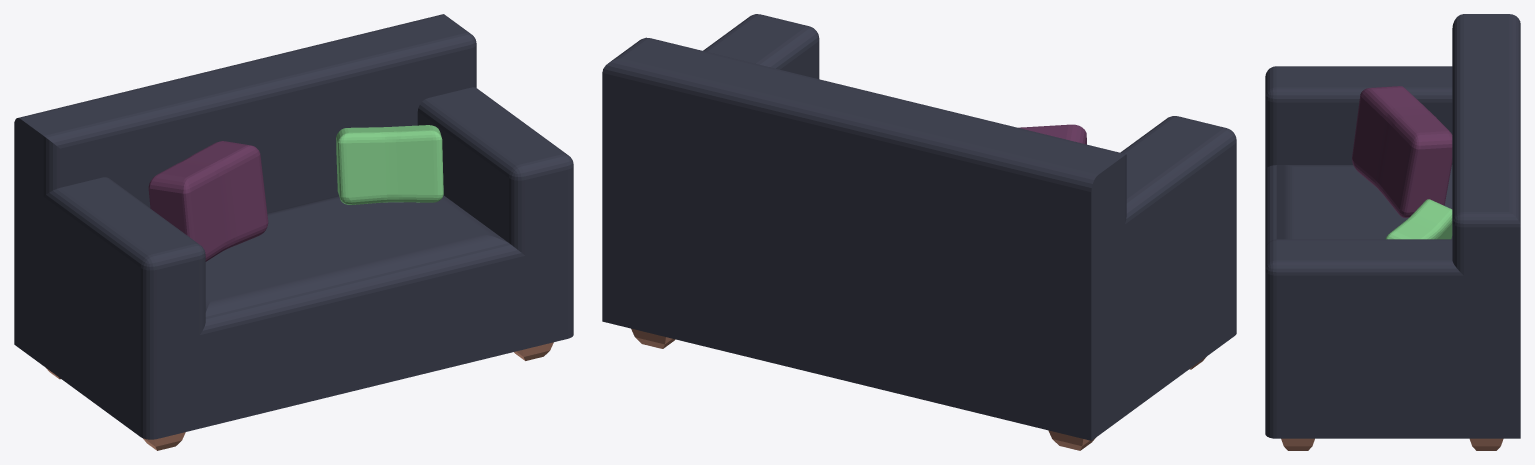
File: sofa.fbx
3 renders of one model, left to right at view 1: azimuth 30°, elevation 25°; view 2: azimuth 150°, elevation 25°; view 3: azimuth 270°, elevation 25°, orthographic. The views are drawn at different scales.
Parts seen in each view (by area): view 1: Sofa, Tyynyt; view 2: Sofa, Tyynyt; view 3: Sofa, Tyynyt.
Boxes of the visible parts, bbox=[...] form: Sofa: bbox=[14, 14, 573, 450]; Tyynyt: bbox=[148, 125, 443, 261]; Sofa: bbox=[602, 14, 1236, 450]; Tyynyt: bbox=[1018, 124, 1086, 144]; Sofa: bbox=[1265, 14, 1520, 450]; Tyynyt: bbox=[1352, 86, 1452, 239].
Size of the model in its own units: 177 by 99.27 by 94.
